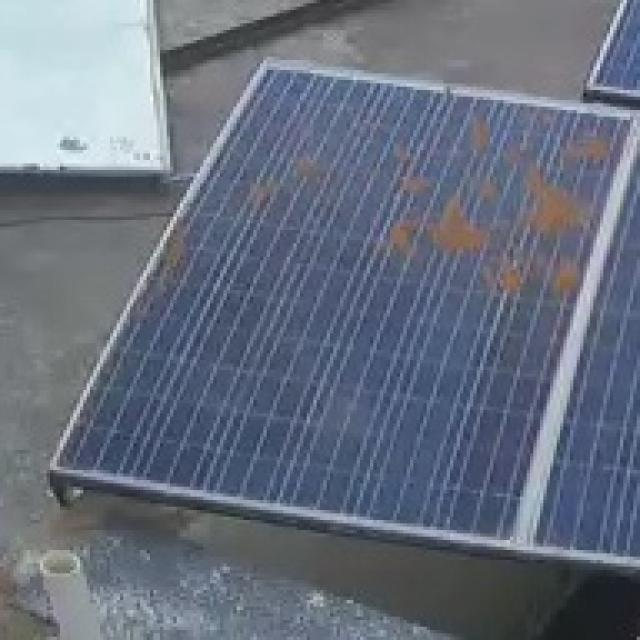Dusty: (133, 215, 188, 322), (523, 168, 599, 237), (432, 188, 493, 261), (550, 134, 617, 168), (483, 252, 530, 296), (384, 216, 422, 264), (549, 250, 581, 301), (400, 176, 449, 201), (296, 148, 325, 189), (249, 182, 280, 218), (471, 116, 492, 153), (399, 148, 434, 169), (502, 140, 526, 166), (478, 172, 502, 198)
